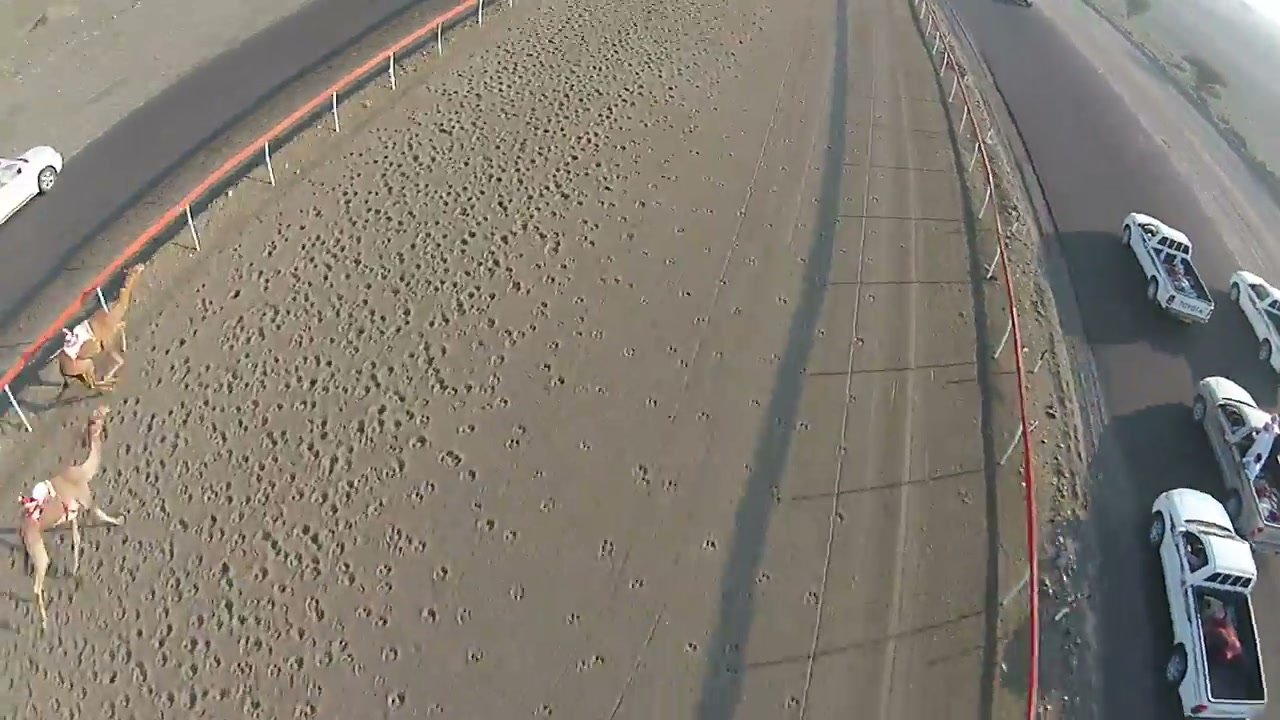animal_foot_print: (31, 42, 675, 717), (433, 104, 684, 528)
